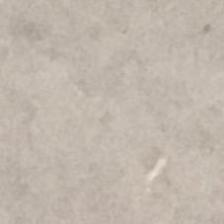Non_Crack: (6, 2, 224, 209)
